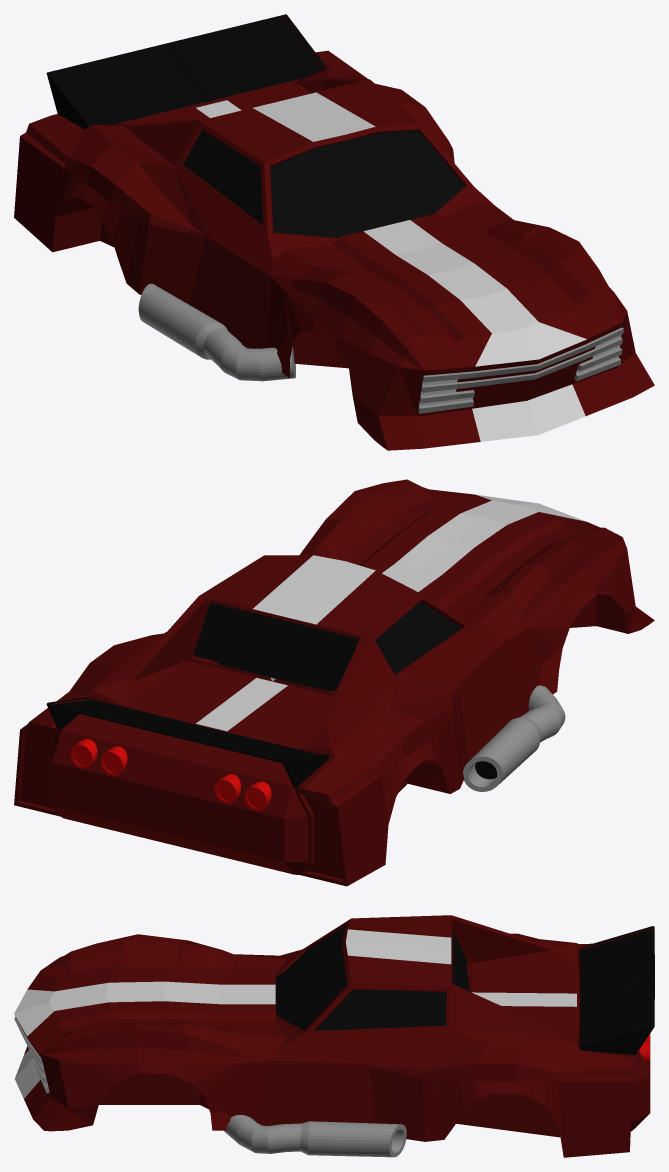
File: corvette_body.obj
3 renders of one model, top to bottom at view 1: azimuth 30°, elevation 25°; view 2: azimuth 150°, elevation 25°; view 3: azimuth 270°, elevation 25°, orthographic. The views are drawn at different scales.
Parts seen in each view (by area): view 1: Cube; view 2: Cube; view 3: Cube.
Boxes of the visible parts, left/top/right/bottom form: Cube: left=14, top=14, right=654, bottom=450; Cube: left=14, top=479, right=654, bottom=886; Cube: left=14, top=915, right=654, bottom=1157.
Bounding box in the file's own units: 4.45 × 2 × 7.91.
